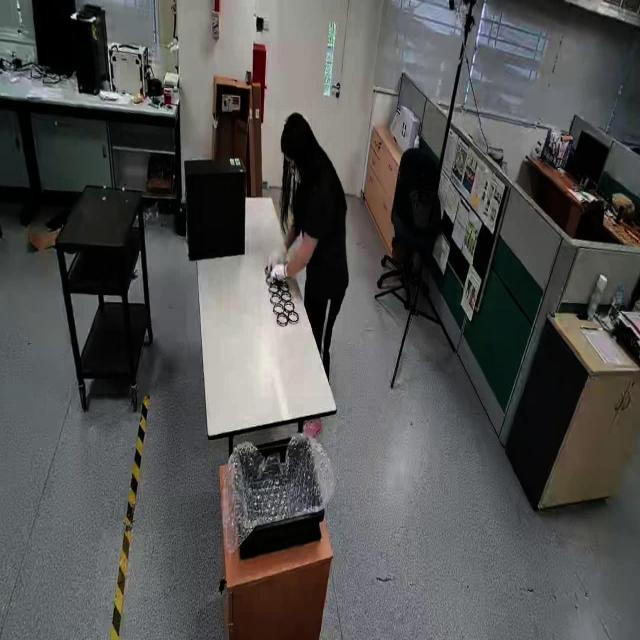hand_glove: (264, 244, 298, 292)
head_nohelmet: (280, 111, 306, 147)
person: (262, 108, 352, 398)
